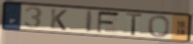3: (23, 6, 46, 30)
F: (95, 10, 122, 35)
I: (85, 10, 96, 34)
K: (49, 8, 69, 32)
O: (147, 15, 171, 38)
T: (124, 12, 145, 37)
